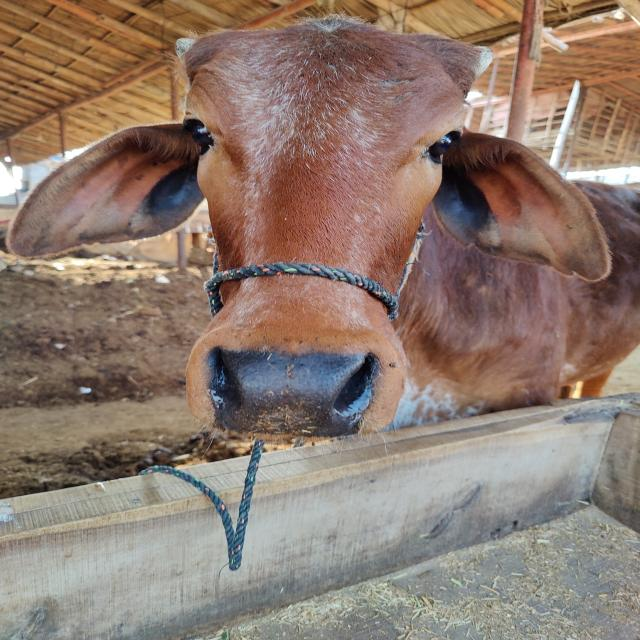muzzles: (206, 334, 380, 436)
